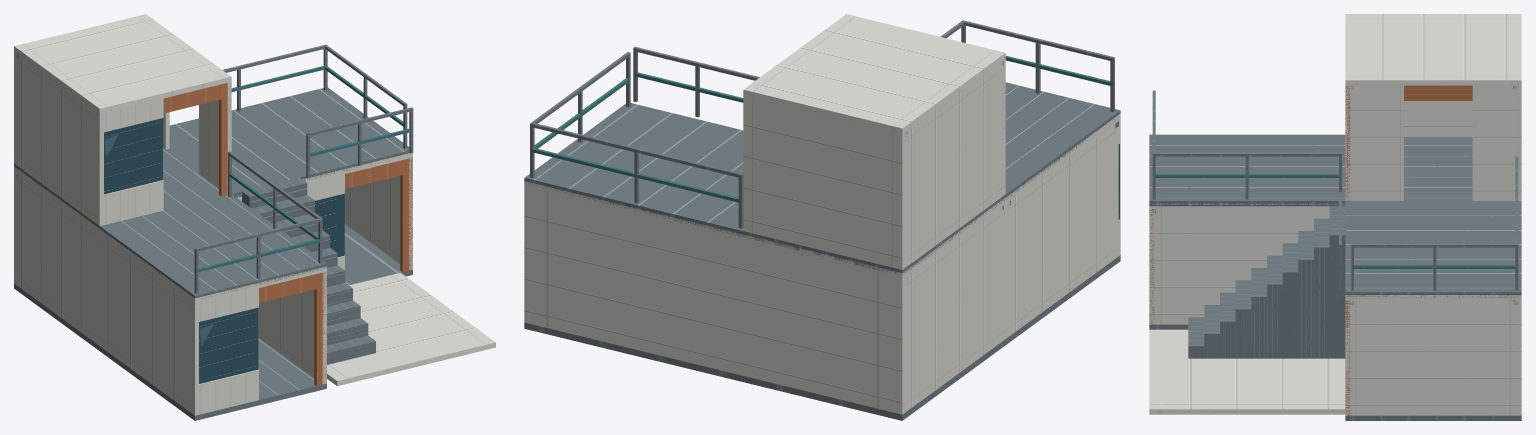
The model's file is TorusHome_CourtyardA.obj.
The picture shows the model from 3 angles, left to right: view 1: azimuth 30°, elevation 25°; view 2: azimuth 150°, elevation 25°; view 3: azimuth 270°, elevation 25°; orthographic projection. The views are drawn at different scales.
Visible parts, largest first — view 1: TorusHome_CourtyardA; view 2: TorusHome_CourtyardA; view 3: TorusHome_CourtyardA.
Boxes of the visible parts, <box> form: TorusHome_CourtyardA: <box>14,14,495,420</box>; TorusHome_CourtyardA: <box>524,14,1120,420</box>; TorusHome_CourtyardA: <box>1149,14,1521,420</box>.
Bounding box in the file's own units: 1.9 × 1.4 × 1.9.
Materials: 1 (1 with a texture image).
